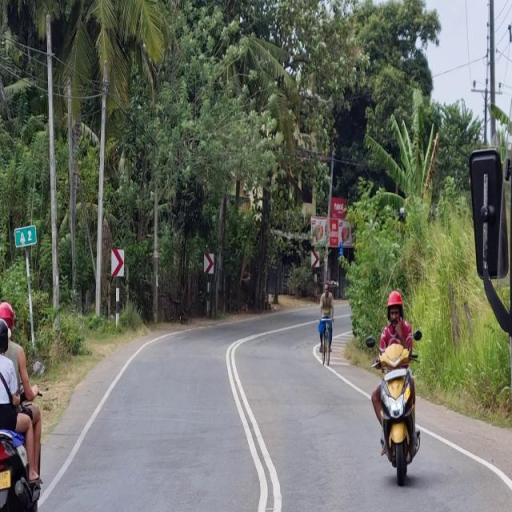double_white_line: (224, 332, 282, 511)
